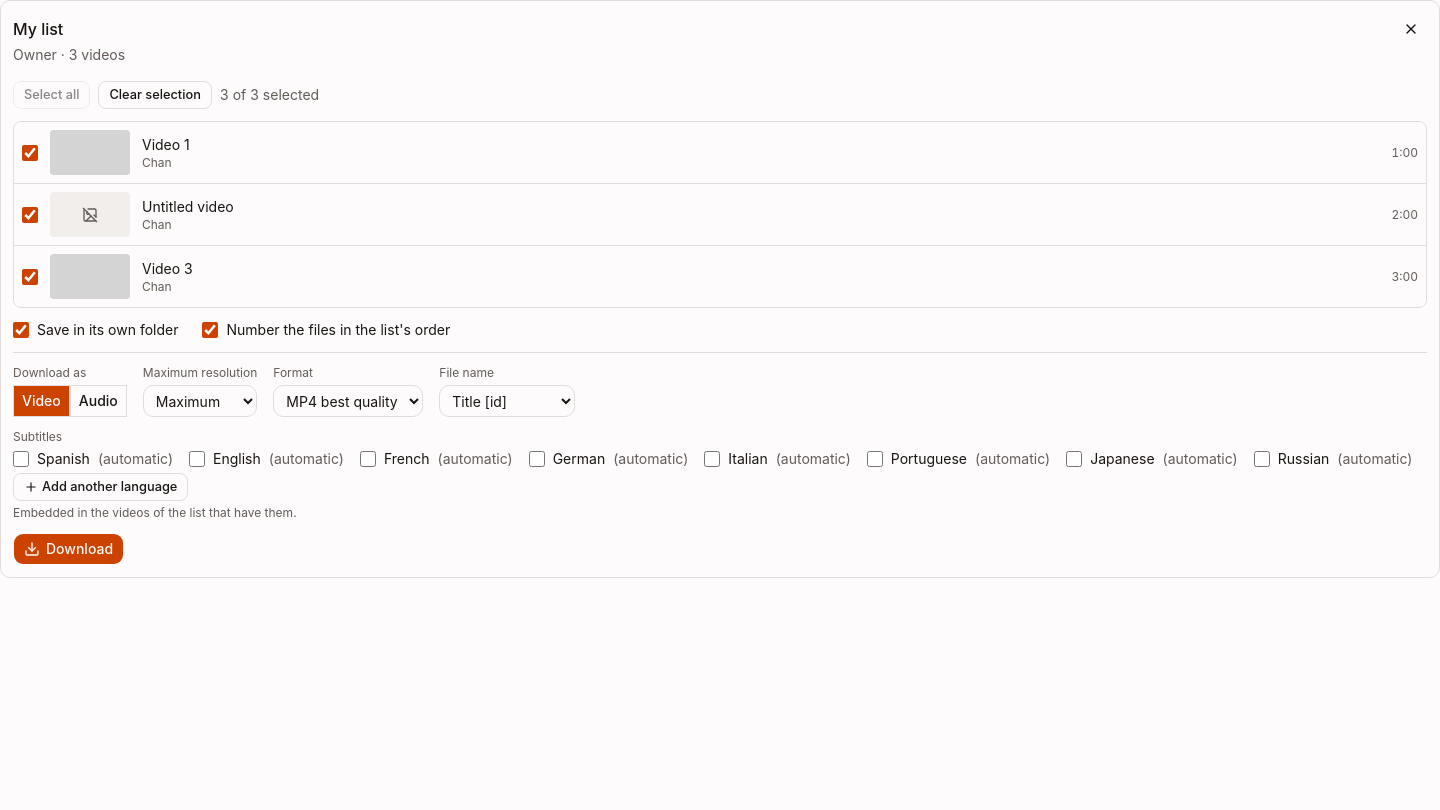
Test: the Download button › numbers a video by its place in the list, like audio
Click the button "Download": click(69, 549) [13,533,124,565]
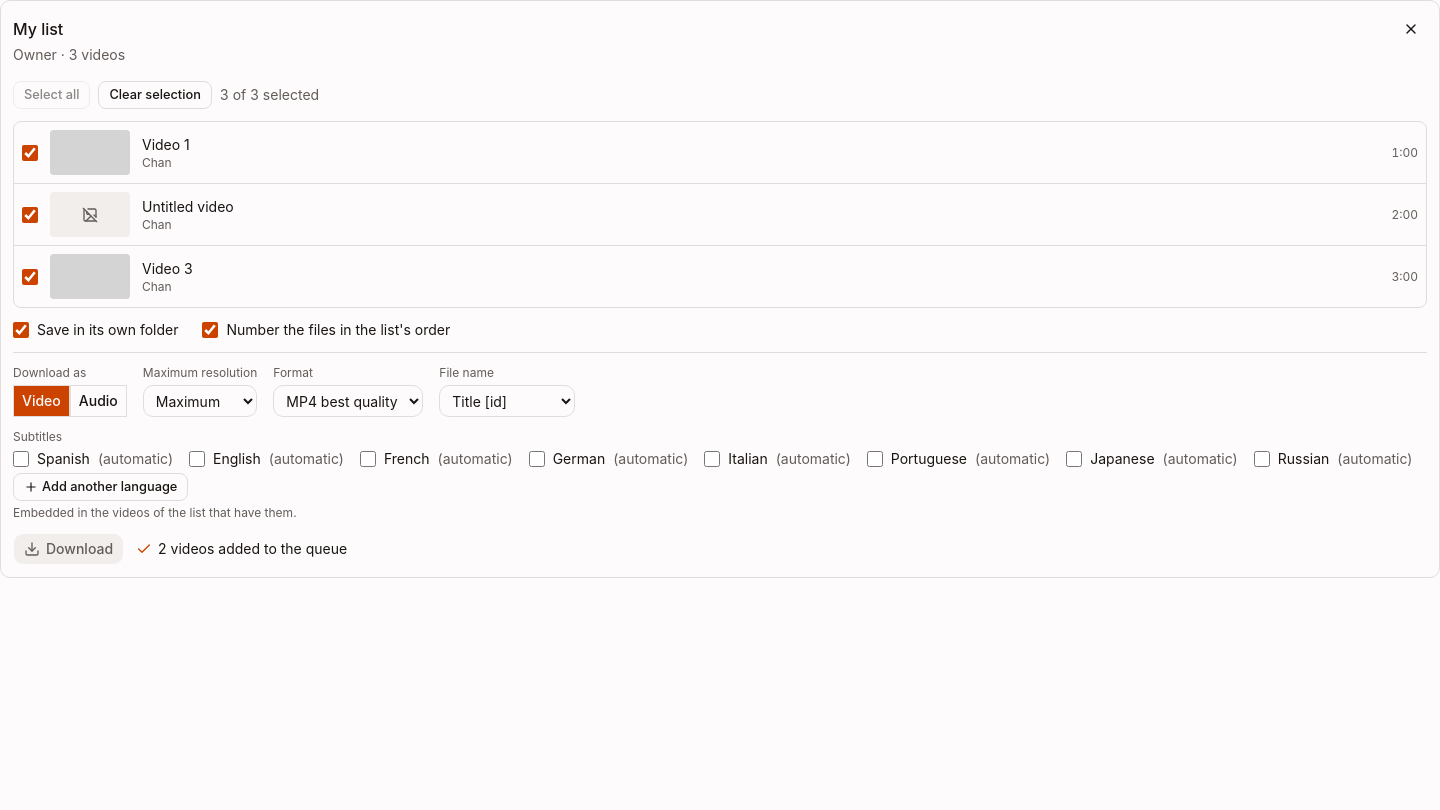
Expected: the message "2 videos added to the queue" is shown, [136,539,347,559]
